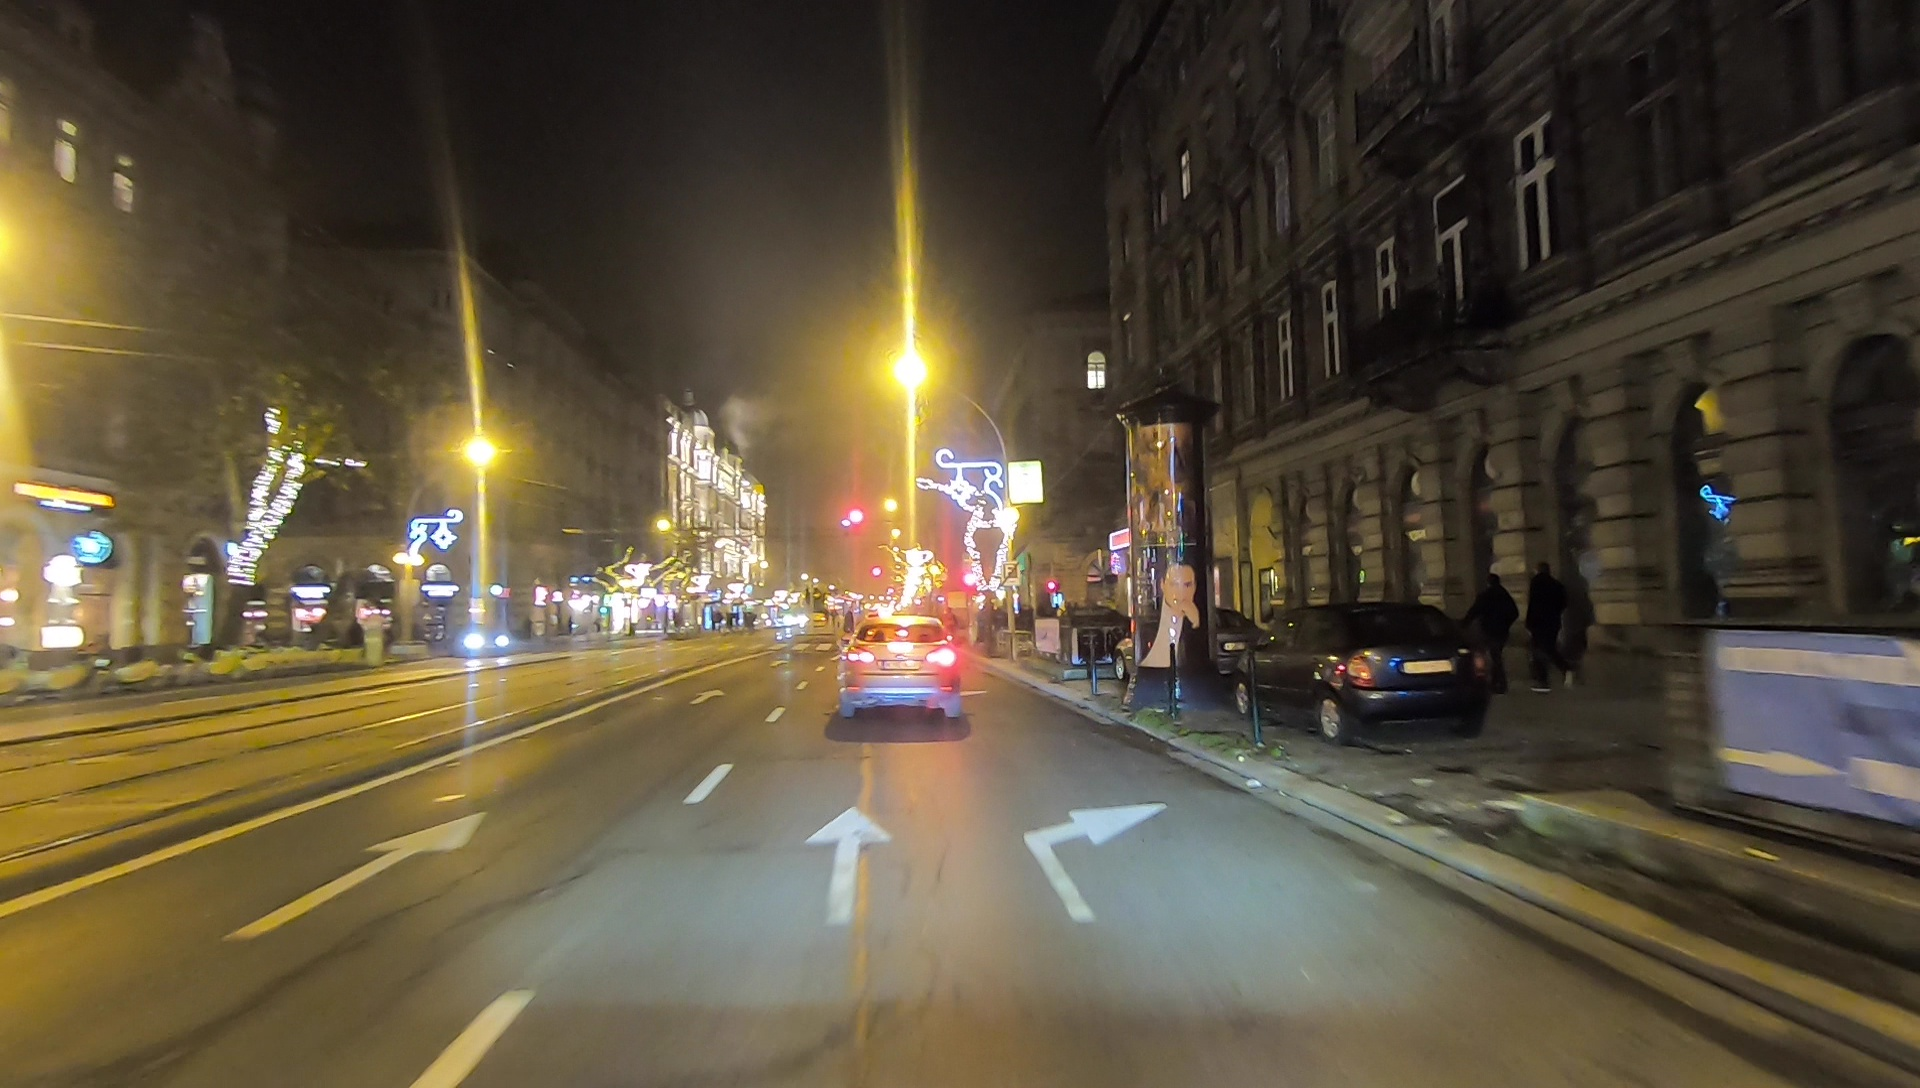person: (1467, 576, 1521, 700), (1526, 563, 1562, 691), (1560, 565, 1597, 684)
